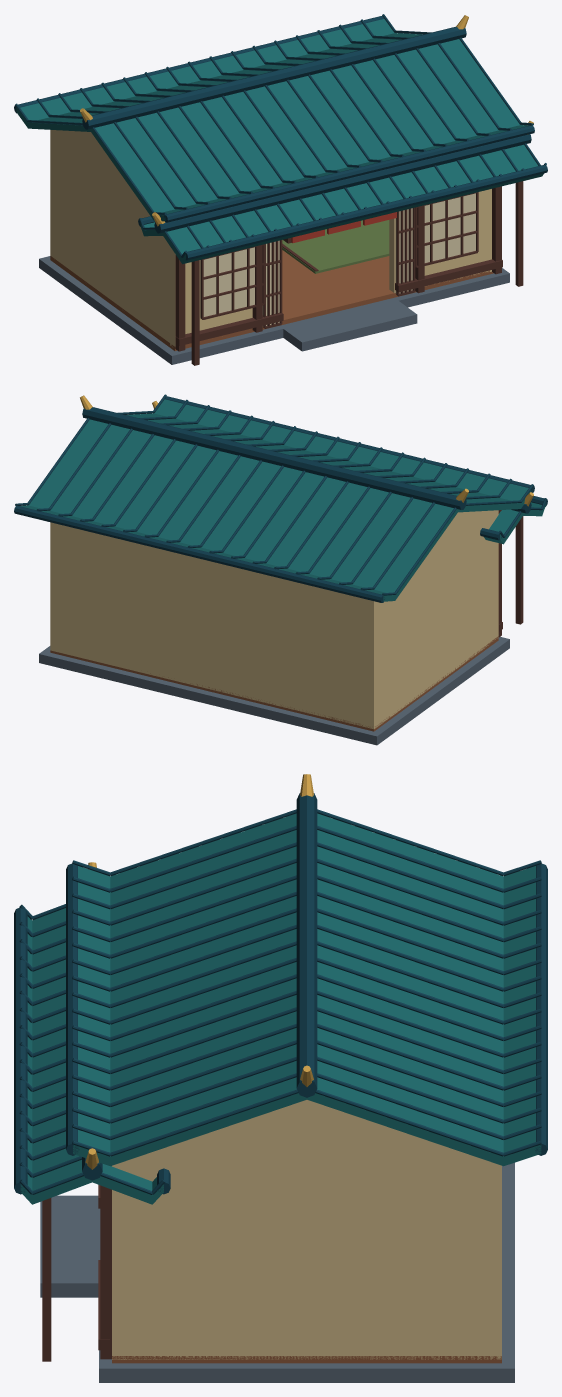
Rendered from tea_house_open.glb.
3 views of the same model, one above another, from view 1: azimuth 30°, elevation 25°; view 2: azimuth 150°, elevation 25°; view 3: azimuth 270°, elevation 25° (orthographic). The views are drawn at different scales.
Visible parts, largest first — view 1: tea_house_open; view 2: tea_house_open; view 3: tea_house_open.
Part boxes in pixels (x1,y1,x2,y2): tea_house_open: (14, 14, 547, 365); tea_house_open: (14, 394, 547, 745); tea_house_open: (14, 774, 547, 1382).
Bounding box in the file's own units: 10.8 × 5.66 × 8.21.
